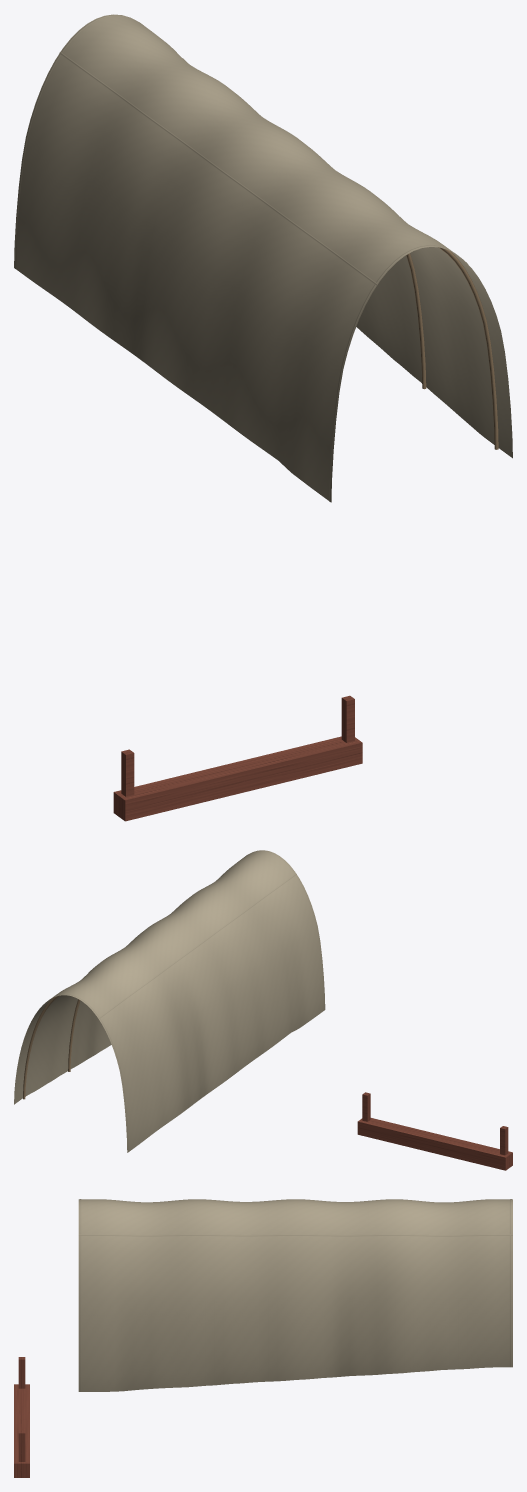
The model's file is covered-v2-cover.glb.
The picture shows the model from 3 angles, top to bottom: view 1: azimuth 30°, elevation 25°; view 2: azimuth 150°, elevation 25°; view 3: azimuth 270°, elevation 25°; orthographic projection. The views are drawn at different scales.
Visible parts, largest first — view 1: covered_original_canvas_sheet, covered_preserved_laid_by_yoke, covered_original_sewn_and_folded_hems, covered_original_five_bows; view 2: covered_original_canvas_sheet, covered_preserved_laid_by_yoke, covered_original_sewn_and_folded_hems, covered_original_five_bows; view 3: covered_original_canvas_sheet, covered_original_sewn_and_folded_hems, covered_preserved_laid_by_yoke.
Part boxes in pixels (left/top/right/bottom): covered_original_canvas_sheet: left=14, top=14, right=512, bottom=502; covered_preserved_laid_by_yoke: left=113, top=695, right=362, bottom=821; covered_original_sewn_and_folded_hems: left=14, top=14, right=467, bottom=502; covered_original_five_bows: left=406, top=247, right=498, bottom=449; covered_original_canvas_sheet: left=14, top=850, right=325, bottom=1151; covered_preserved_laid_by_yoke: left=357, top=1092, right=512, bottom=1170; covered_original_sewn_and_folded_hems: left=42, top=850, right=324, bottom=1152; covered_original_five_bows: left=23, top=995, right=80, bottom=1099; covered_original_canvas_sheet: left=78, top=1199, right=512, bottom=1391; covered_original_sewn_and_folded_hems: left=78, top=1199, right=512, bottom=1391; covered_preserved_laid_by_yoke: left=14, top=1357, right=29, bottom=1477.
Bounding box in the file's own units: 2.6 × 2.6 × 3.78.
Materials: 4 (4 with a texture image).
